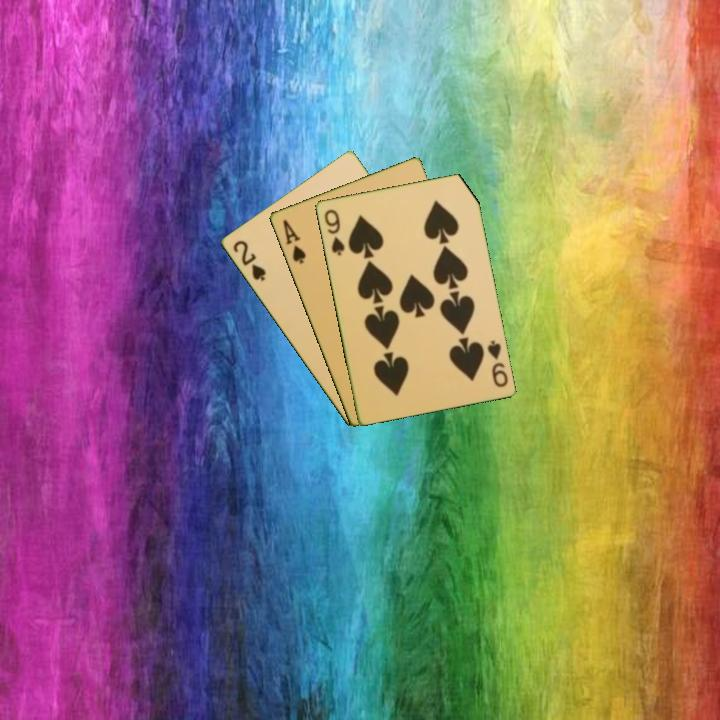2s: (229, 237, 269, 284)
9s: (483, 336, 510, 390), (320, 206, 347, 258)
As: (279, 216, 308, 266)
